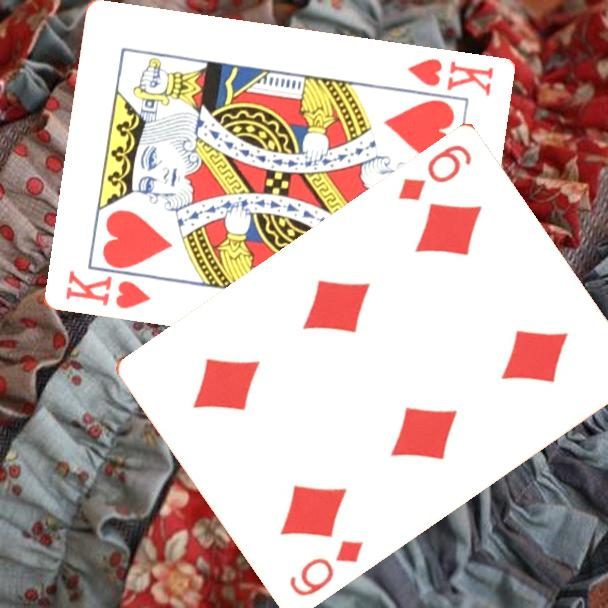d06: (285, 535, 367, 599), (394, 140, 475, 203)
h13: (403, 55, 496, 100), (61, 267, 153, 312)
